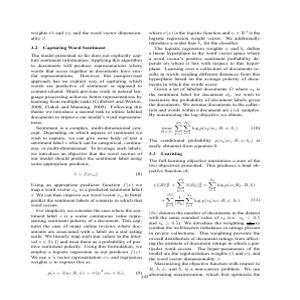text: (145, 29, 264, 278), (28, 29, 143, 267)
